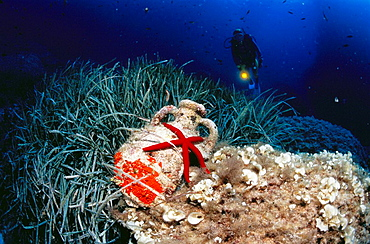amphora: (116, 97, 219, 194)
